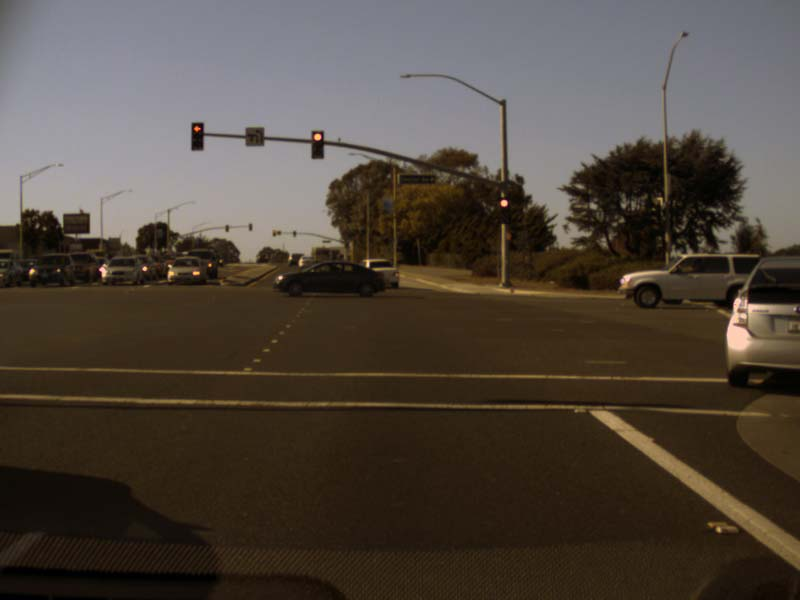Red: (311, 131, 322, 158), (191, 123, 202, 149), (499, 198, 508, 222)
